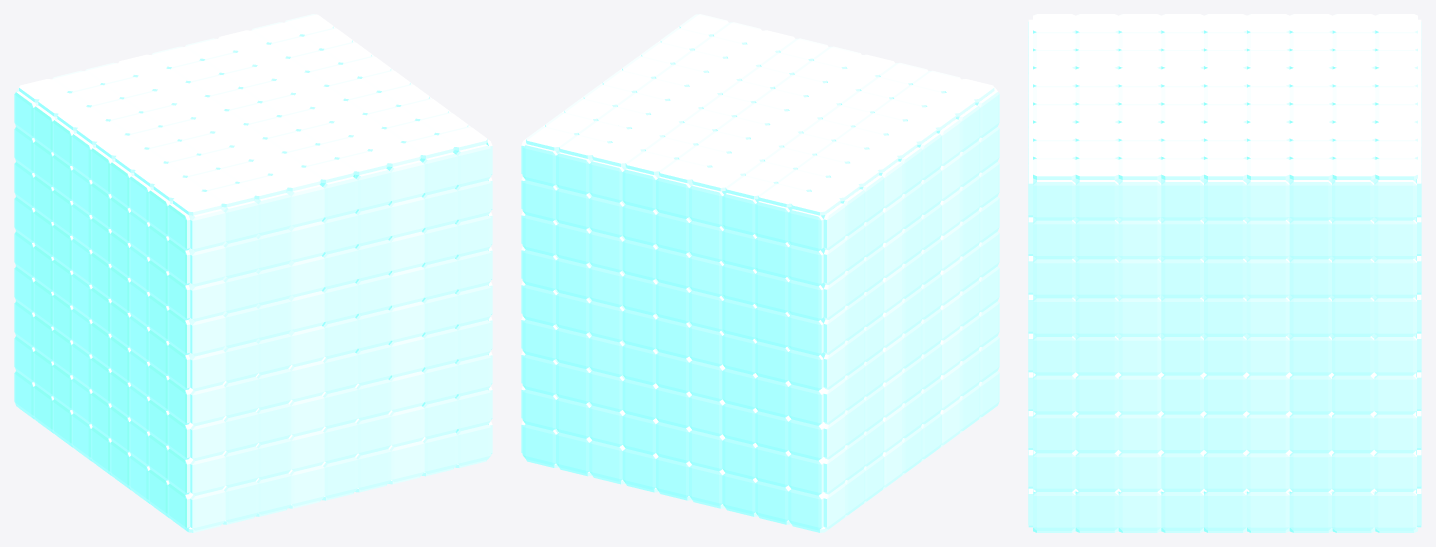
File: BoxStage.gltf
3 renders of one model, left to right at view 1: azimuth 30°, elevation 25°; view 2: azimuth 150°, elevation 25°; view 3: azimuth 270°, elevation 25°, orthographic. The views are drawn at different scales.
Parts seen in each view (by area): view 1: Cube.302, Cube.284, Cube.320, Cube.248, Cube.266, Cube.293, Cube.257, Cube.275, Cube.311, Cube.298, Cube.299, Cube.300 (+231 smaller); view 2: Cube.140, Cube.104, Cube.113, Cube.086, Cube.131, Cube.122, Cube.149, Cube.158, Cube.095, Cube.142, Cube.144, Cube.141 (+231 smaller); view 3: Cube.218, Cube.223, Cube.224, Cube.217, Cube.221, Cube.219, Cube.225, Cube.242, Cube.170, Cube.215, Cube.220, Cube.236 (+150 smaller).
Boxes of the visible parts, bbox=[...] form: Cube.302: bbox=[190, 209, 225, 251]; Cube.284: bbox=[190, 350, 225, 391]; Cube.320: bbox=[190, 280, 225, 321]; Cube.248: bbox=[190, 419, 225, 460]; Cube.266: bbox=[190, 489, 225, 530]; Cube.293: bbox=[190, 245, 225, 286]; Cube.257: bbox=[190, 385, 225, 426]; Cube.275: bbox=[190, 454, 225, 495]; Cube.311: bbox=[190, 315, 225, 356]; Cube.298: bbox=[323, 176, 357, 219]; Cube.299: bbox=[289, 185, 324, 227]; Cube.300: bbox=[356, 168, 391, 211]; Cube.140: bbox=[788, 209, 823, 251]; Cube.104: bbox=[788, 489, 823, 530]; Cube.113: bbox=[788, 454, 823, 495]; Cube.086: bbox=[788, 419, 823, 460]; Cube.131: bbox=[788, 245, 823, 286]; Cube.122: bbox=[788, 349, 823, 390]; Cube.149: bbox=[788, 314, 823, 355]; Cube.158: bbox=[788, 280, 823, 321]; Cube.095: bbox=[788, 384, 823, 425]; Cube.142: bbox=[556, 152, 590, 194]; Cube.144: bbox=[522, 144, 557, 186]; Cube.141: bbox=[722, 193, 756, 235]; Cube.218: bbox=[1246, 180, 1289, 220]; Cube.223: bbox=[1075, 180, 1118, 220]; Cube.224: bbox=[1118, 180, 1161, 220]; Cube.217: bbox=[1204, 180, 1246, 220]; Cube.221: bbox=[1374, 180, 1416, 220]; Cube.219: bbox=[1161, 180, 1203, 220]; Cube.225: bbox=[1033, 180, 1075, 220]; Cube.242: bbox=[1118, 258, 1161, 298]; Cube.170: bbox=[1118, 414, 1161, 453]; Cube.215: bbox=[1118, 220, 1161, 259]; Cube.220: bbox=[1332, 180, 1374, 220]; Cube.236: bbox=[1246, 258, 1289, 298].
Size of the model in its own units: 32.21 by 32.3 by 32.2.
